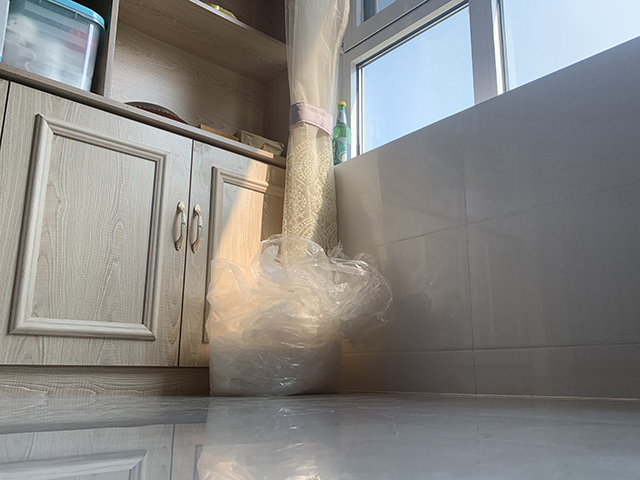cabinet: (1, 71, 285, 397)
curtain: (284, 1, 352, 253)
